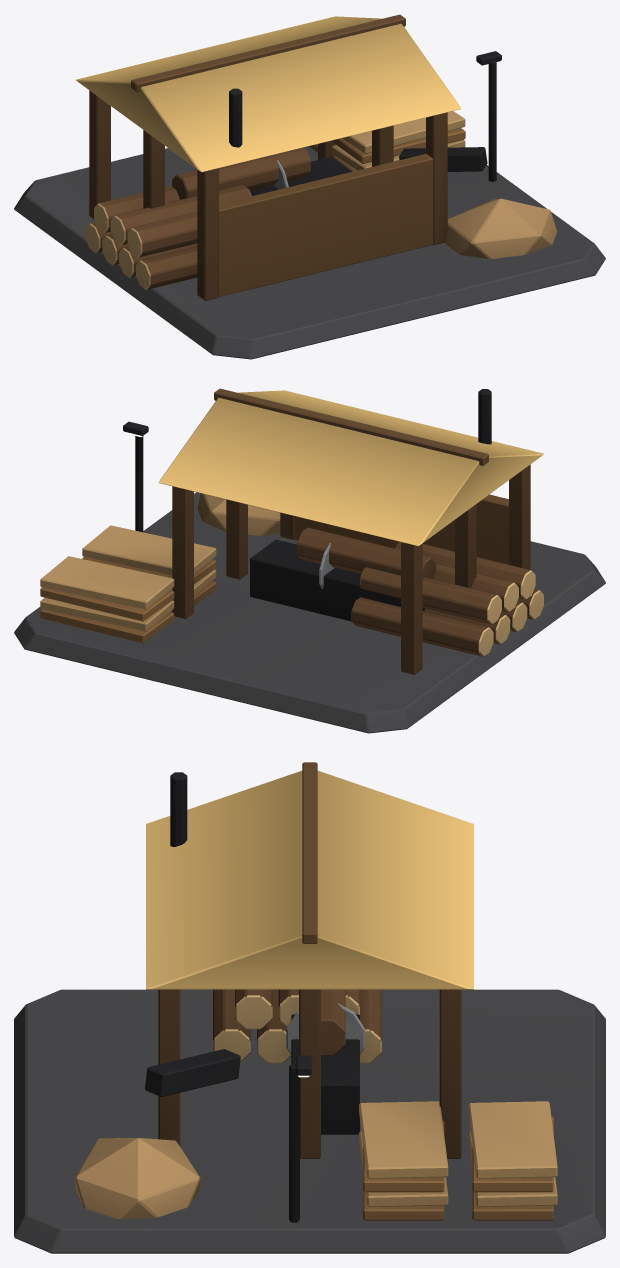
Rendered from lumber_mill.glb.
The picture shows the model from 3 angles, top to bottom: view 1: azimuth 30°, elevation 25°; view 2: azimuth 150°, elevation 25°; view 3: azimuth 270°, elevation 25°; orthographic projection. The views are drawn at different scales.
Parts seen in each view (by area): view 1: lumber_mill; view 2: lumber_mill; view 3: lumber_mill.
Boxes of the visible parts, x1,y1,x2,y2 form: lumber_mill: (14,14,605,359); lumber_mill: (14,388,605,733); lumber_mill: (14,762,605,1253).
Bounding box in the file's own units: 1.9 × 1.06 × 1.9.
